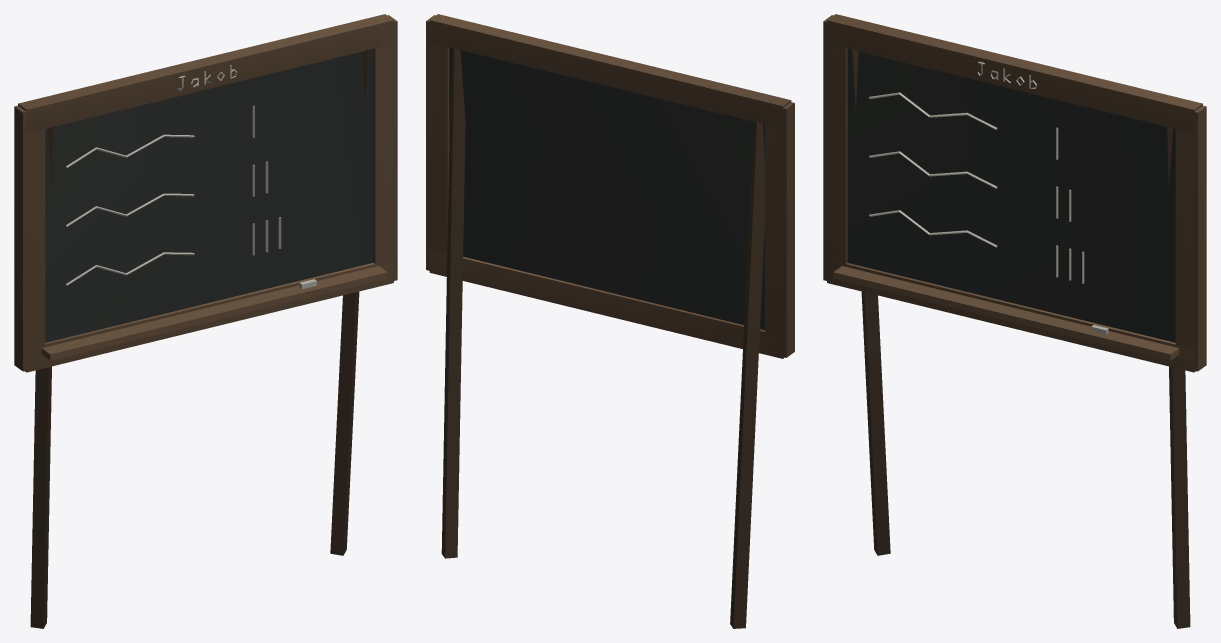
The model's file is ph_prop_chalkboard.glb.
3 views of the same model, side by side, from view 1: azimuth 30°, elevation 25°; view 2: azimuth 150°, elevation 25°; view 3: azimuth 330°, elevation 25° (orthographic). The views are drawn at different scales.
Visible parts, largest first — view 1: ph_prop_chalkboard; view 2: ph_prop_chalkboard; view 3: ph_prop_chalkboard.
Part boxes in pixels (x1,y1,x2,y2): ph_prop_chalkboard: [14, 14, 397, 628]; ph_prop_chalkboard: [426, 14, 794, 628]; ph_prop_chalkboard: [823, 14, 1206, 628].
Size of the model in its own units: 1 by 1.38 by 0.162.
